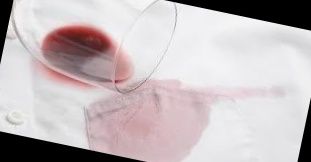wine: (83, 64, 225, 162), (191, 64, 278, 121)
